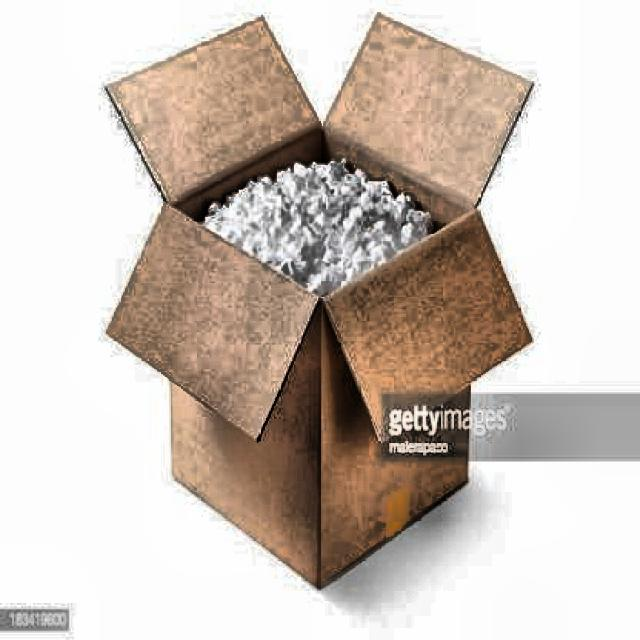Cardbox: (88, 0, 575, 607)
